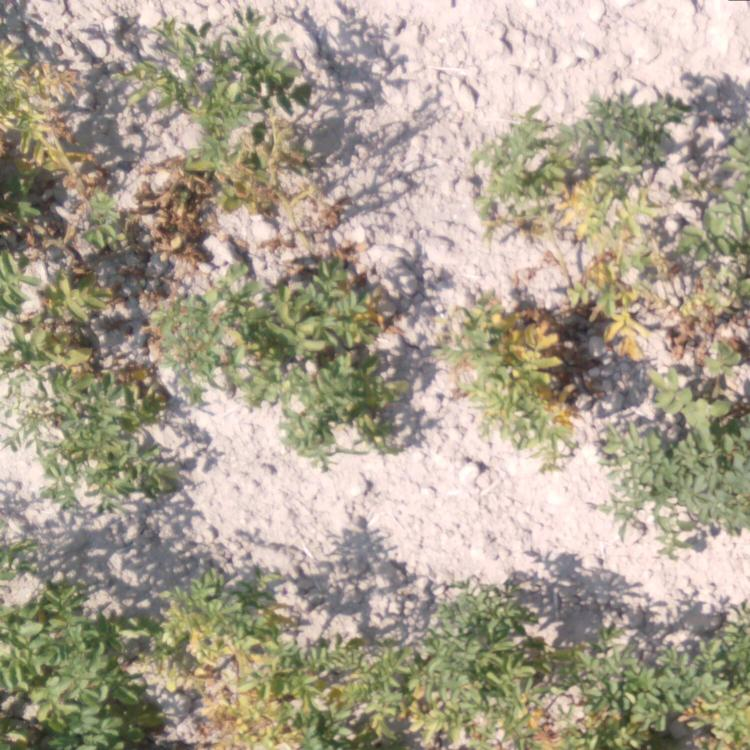healthy: (1, 535, 153, 747), (596, 394, 749, 546), (611, 623, 750, 741), (708, 97, 750, 229)
stressed: (337, 578, 588, 750), (119, 13, 320, 212), (1, 296, 170, 511), (471, 92, 691, 238), (427, 266, 593, 455), (162, 574, 330, 750), (270, 246, 407, 444), (1, 36, 105, 296), (595, 239, 750, 387), (168, 242, 265, 371), (110, 220, 165, 286)
